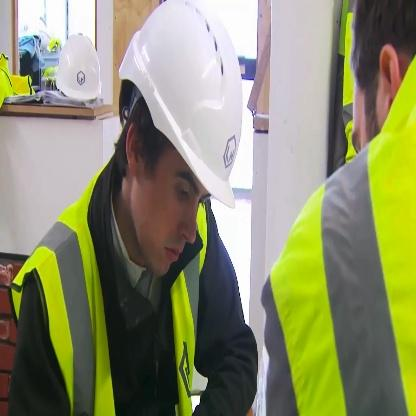helmet: (117, 0, 258, 285)
